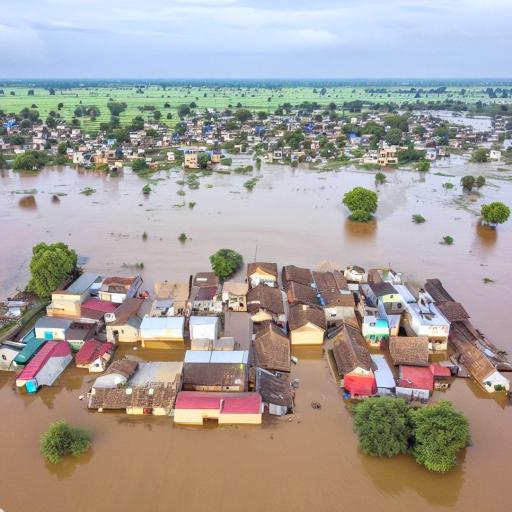flood: (0, 166, 512, 357), (0, 356, 512, 512), (431, 110, 492, 132)
house: (174, 388, 262, 428), (330, 324, 376, 396), (388, 338, 439, 400), (15, 338, 71, 392), (184, 349, 252, 389), (360, 284, 406, 338), (408, 294, 448, 355), (467, 346, 511, 392), (248, 280, 288, 326), (254, 324, 292, 372), (386, 336, 436, 372), (85, 370, 129, 410), (289, 302, 329, 346), (139, 314, 185, 346), (72, 338, 114, 368), (100, 274, 142, 302), (50, 289, 86, 319), (152, 281, 188, 311), (189, 273, 219, 305), (222, 276, 250, 310), (247, 262, 277, 292), (33, 317, 71, 340), (314, 268, 350, 292), (285, 280, 320, 304), (84, 295, 114, 321), (190, 316, 218, 343), (282, 266, 316, 286), (378, 148, 398, 168), (184, 152, 204, 170)
